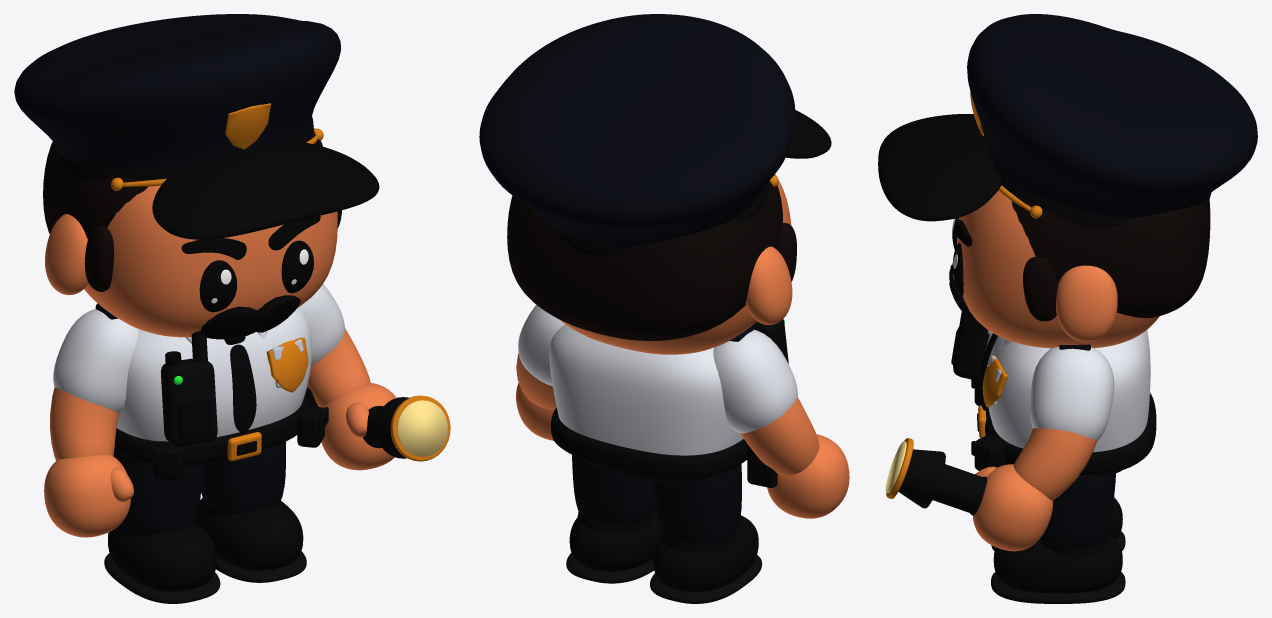
File: guardia.obj
The picture shows the model from 3 angles, left to right: view 1: azimuth 30°, elevation 25°; view 2: azimuth 150°, elevation 25°; view 3: azimuth 270°, elevation 25°; orthographic projection. The views are drawn at different scales.
Parts seen in each view (by area): view 1: guardia_malla; view 2: guardia_malla; view 3: guardia_malla.
Part boxes in pixels (<box>): guardia_malla: <box>14,14,450,603</box>; guardia_malla: <box>479,14,849,603</box>; guardia_malla: <box>878,14,1257,603</box>.
Bounding box in the file's own units: 0.832 × 1.27 × 0.835.
